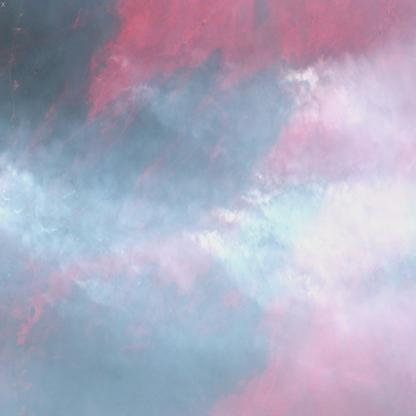fire: (176, 191, 274, 253), (274, 58, 313, 116)
